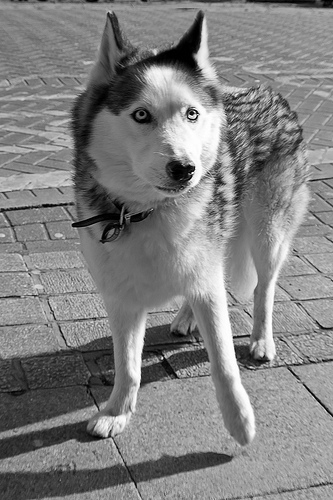dog: (67, 7, 311, 443)
